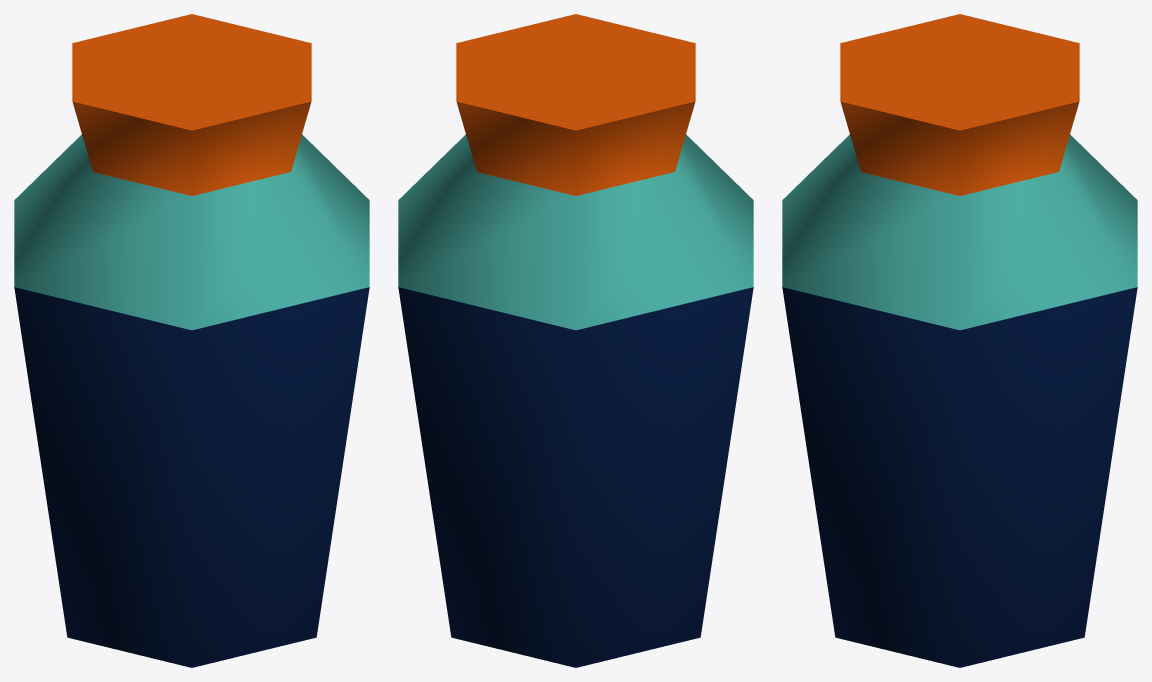
The model's file is botella_azul_escudo.FBX.
3 views of the same model, side by side, from view 1: azimuth 30°, elevation 25°; view 2: azimuth 150°, elevation 25°; view 3: azimuth 270°, elevation 25° (orthographic).
Visible parts, largest first — view 1: Cylinder003; view 2: Cylinder003; view 3: Cylinder003.
Part boxes in pixels (x1,y1,x2,y2): Cylinder003: (14,14,369,667); Cylinder003: (398,14,753,667); Cylinder003: (782,14,1137,667).
Size of the model in its own units: 37.63 by 54.1 by 32.59.
